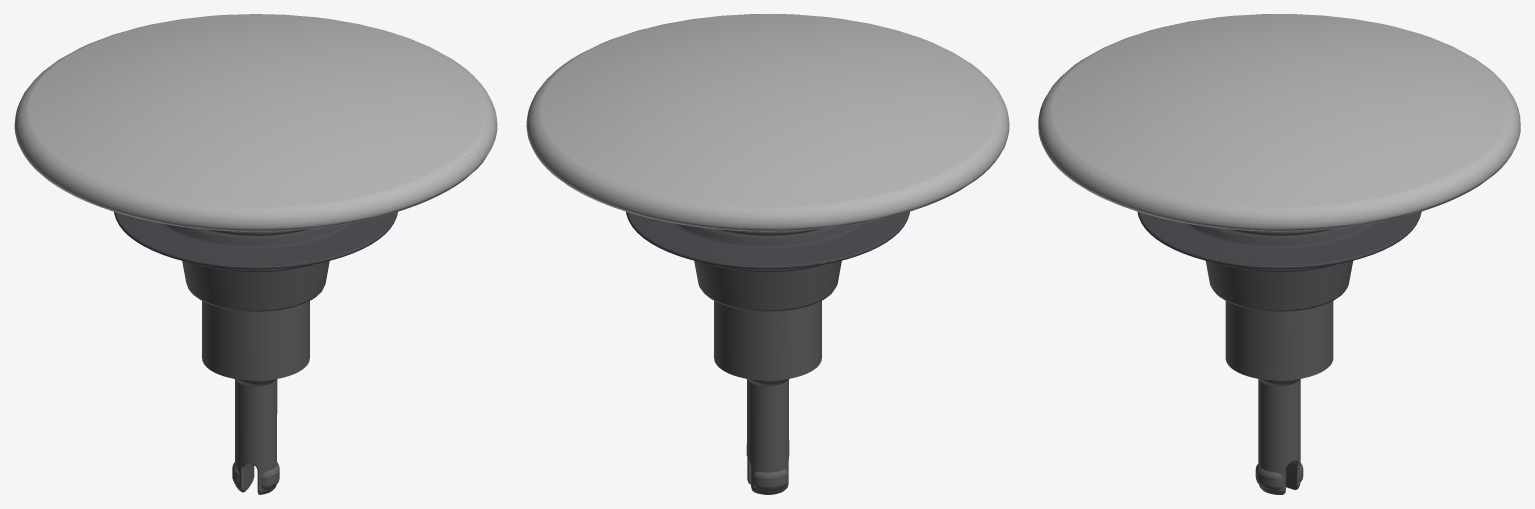
The model's file is rannilen_korek_do_umywalki_wyskakujacy_80567230.glb.
3 renders of one model, left to right at view 1: azimuth 30°, elevation 25°; view 2: azimuth 150°, elevation 25°; view 3: azimuth 270°, elevation 25°, orthographic.
Parts seen in each view (by area): view 1: rannilen_korek_do_umywalki_wyskakujacy_80567230; view 2: rannilen_korek_do_umywalki_wyskakujacy_80567230; view 3: rannilen_korek_do_umywalki_wyskakujacy_80567230.
Part boxes in pixels (x1,y1,x2,y2): rannilen_korek_do_umywalki_wyskakujacy_80567230: [14, 14, 497, 494]; rannilen_korek_do_umywalki_wyskakujacy_80567230: [526, 14, 1009, 494]; rannilen_korek_do_umywalki_wyskakujacy_80567230: [1038, 14, 1520, 494].
Bounding box in the file's own units: 0.0669 × 0.062 × 0.0669.
Materials: 1 (1 with a texture image).
